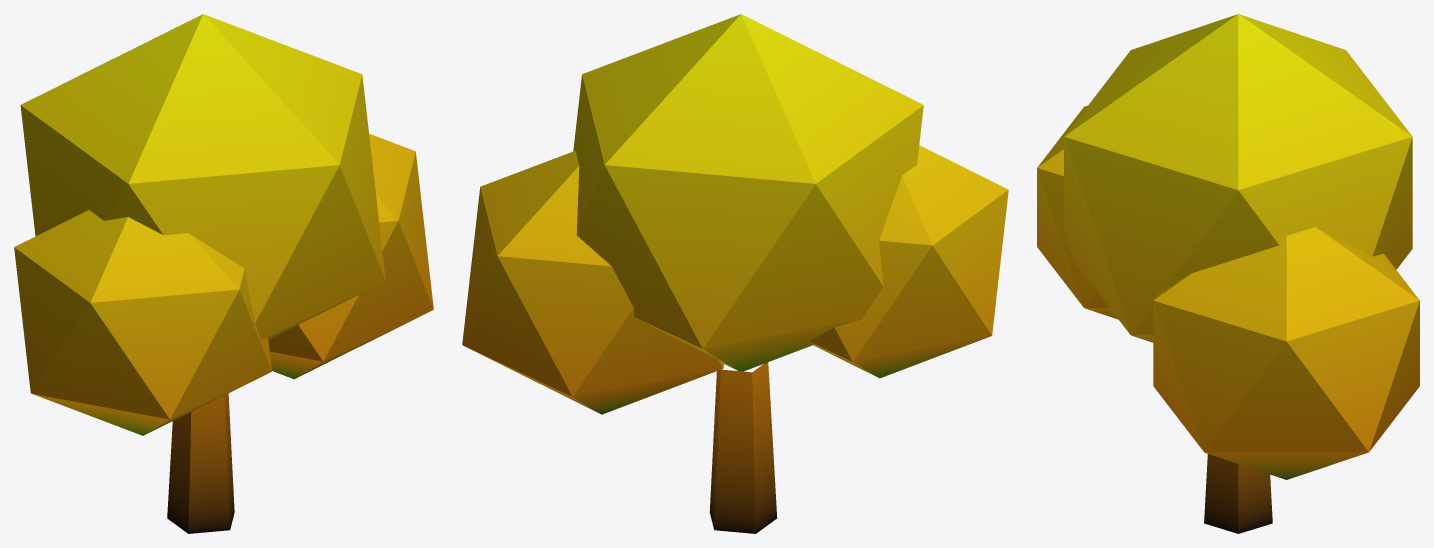
Rendered from family_shrub.glb.
3 views of the same model, side by side, from view 1: azimuth 30°, elevation 25°; view 2: azimuth 150°, elevation 25°; view 3: azimuth 270°, elevation 25° (orthographic).
Visible parts, largest first — view 1: family_shrub; view 2: family_shrub; view 3: family_shrub.
Boxes of the visible parts, left/top/right/bottom form: family_shrub: left=14, top=14, right=433, bottom=533; family_shrub: left=462, top=14, right=1008, bottom=533; family_shrub: left=1037, top=14, right=1419, bottom=533.
Bounding box in the file's own units: 0.9275 × 1 × 0.6874.
